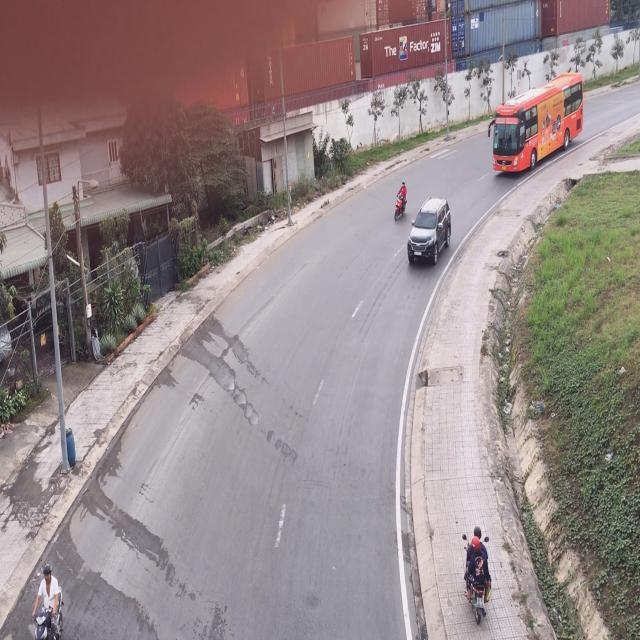bus: (490, 81, 583, 181)
car: (408, 197, 452, 266)
motorbike: (463, 524, 493, 628), (28, 565, 61, 640), (392, 181, 408, 225)
